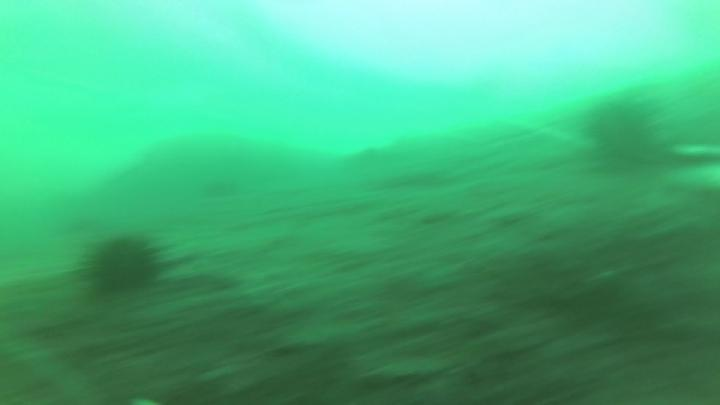echinus: (587, 101, 660, 162), (90, 240, 159, 295)
